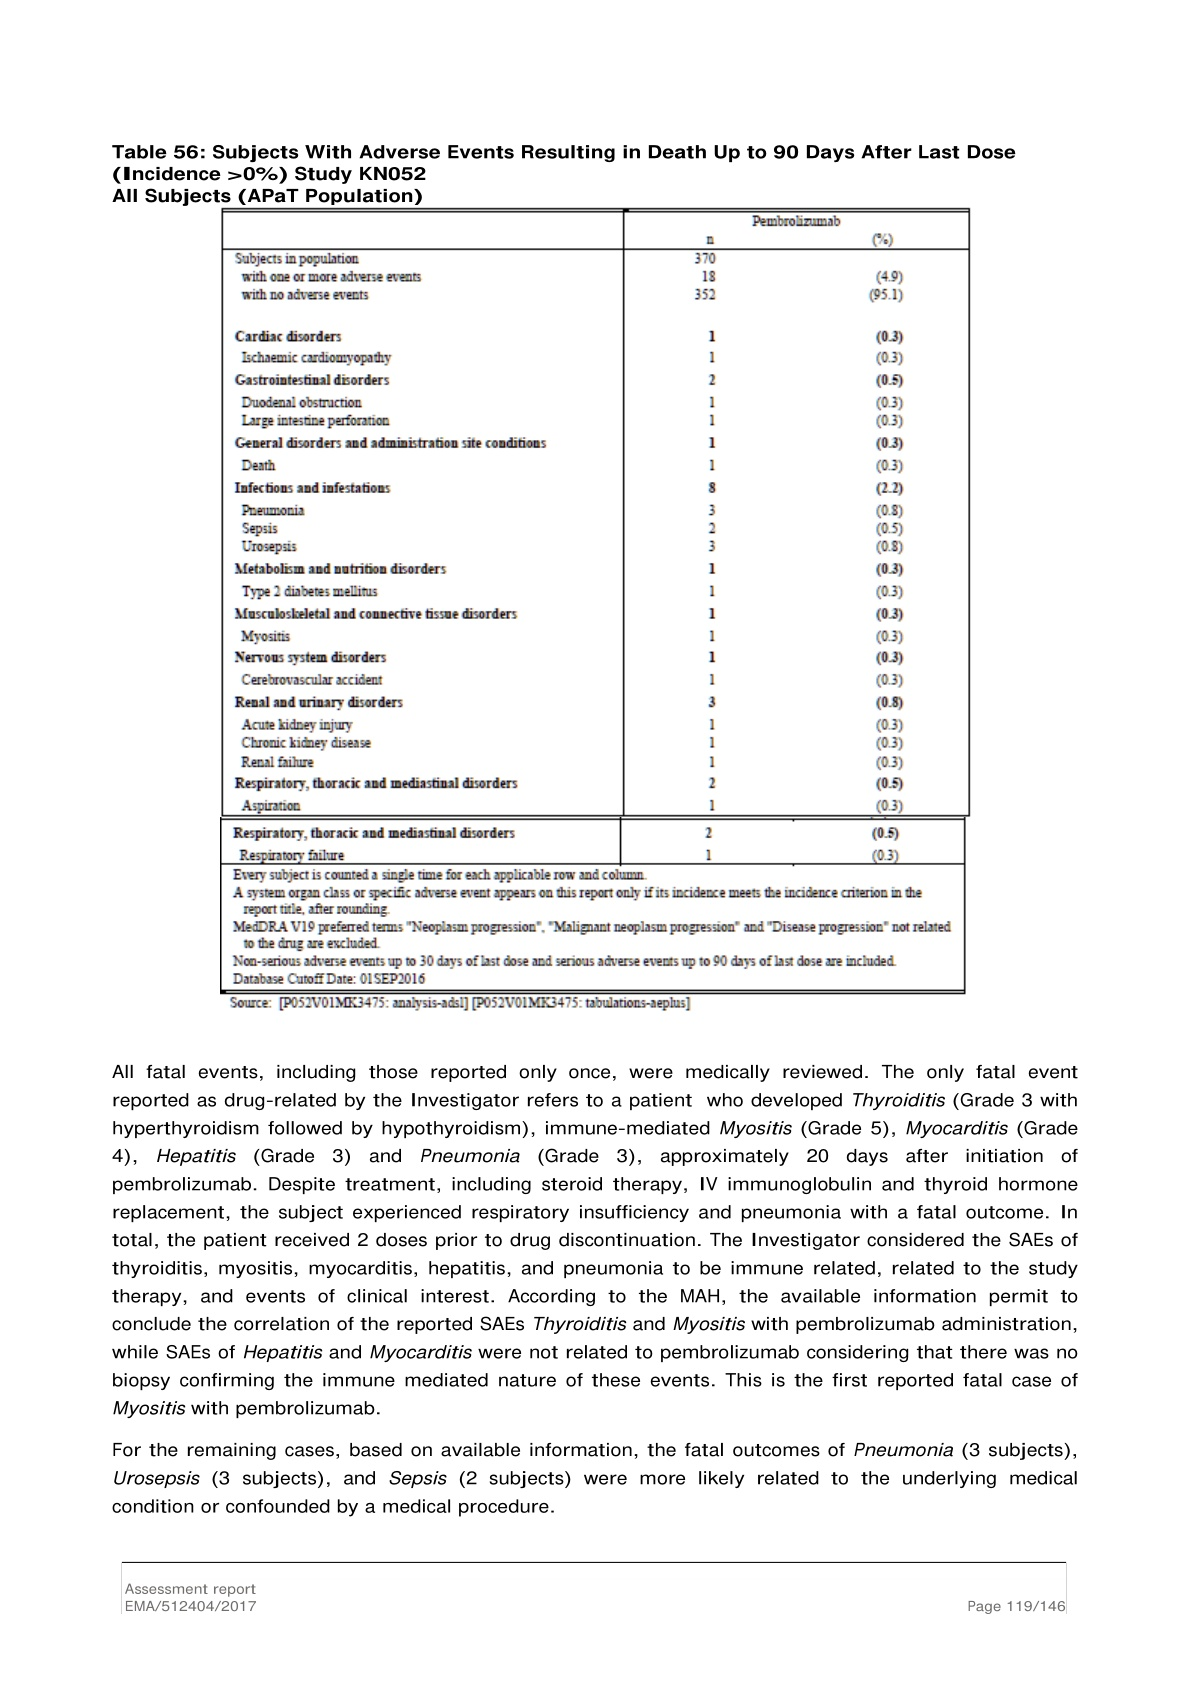partial_lined_merged_cells: (219, 206, 971, 996)
